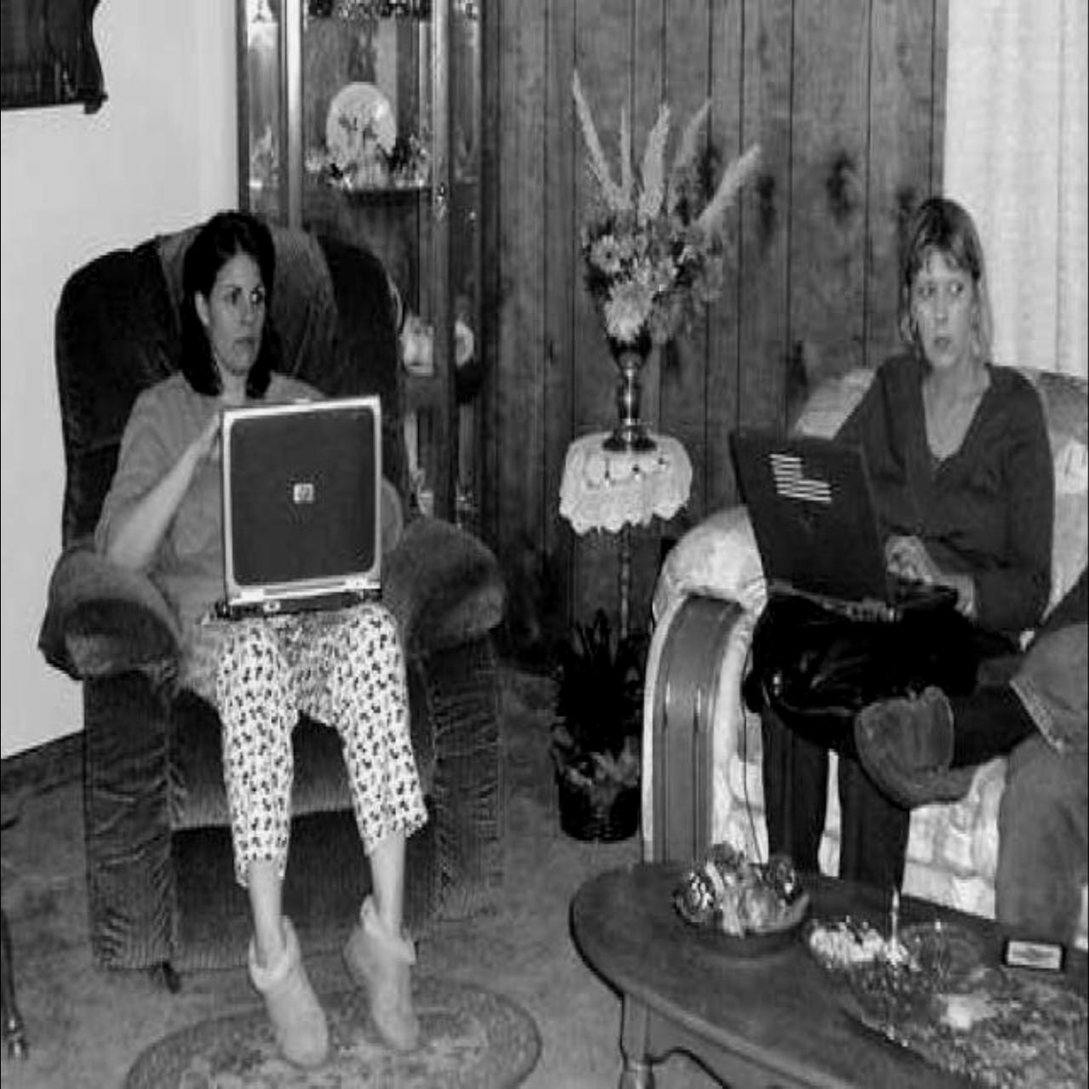laptop: (718, 429, 943, 630), (218, 402, 385, 602)
